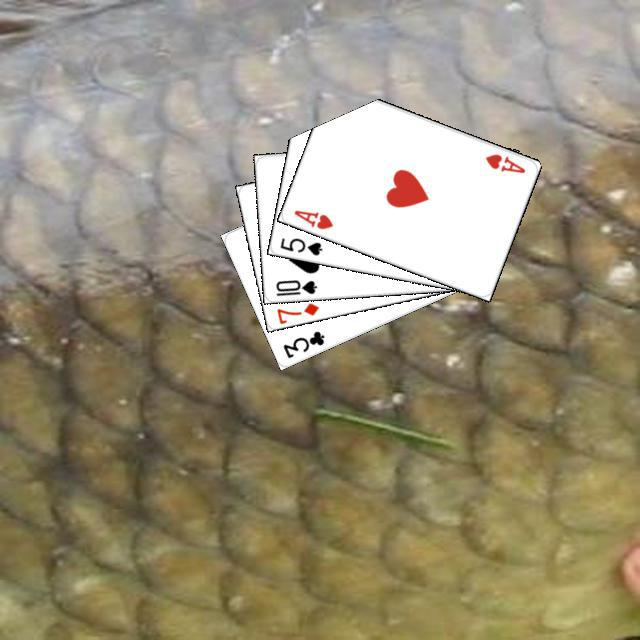10s: (271, 275, 318, 298)
3c: (278, 326, 327, 360)
5s: (275, 233, 324, 257)
7d: (272, 298, 321, 324)
Ah: (480, 149, 527, 175), (289, 205, 335, 231)
